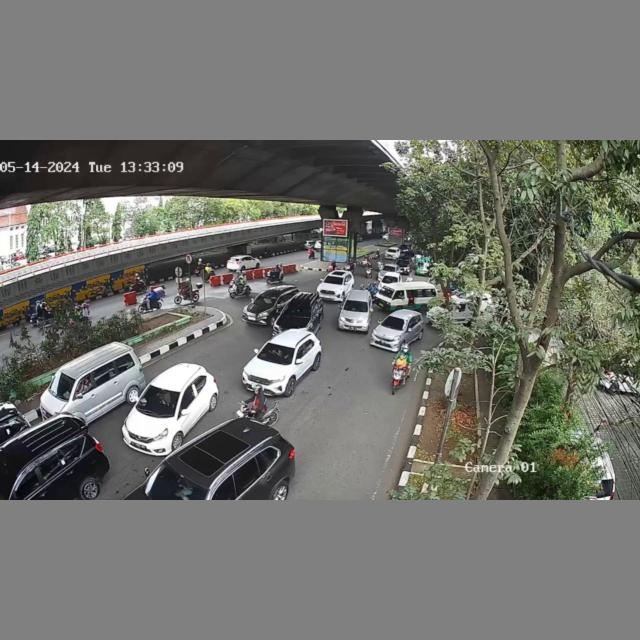windshield: (137, 384, 185, 414), (256, 340, 298, 366), (46, 373, 92, 394), (377, 315, 409, 331), (283, 302, 313, 318), (340, 300, 370, 313), (253, 293, 277, 307)
